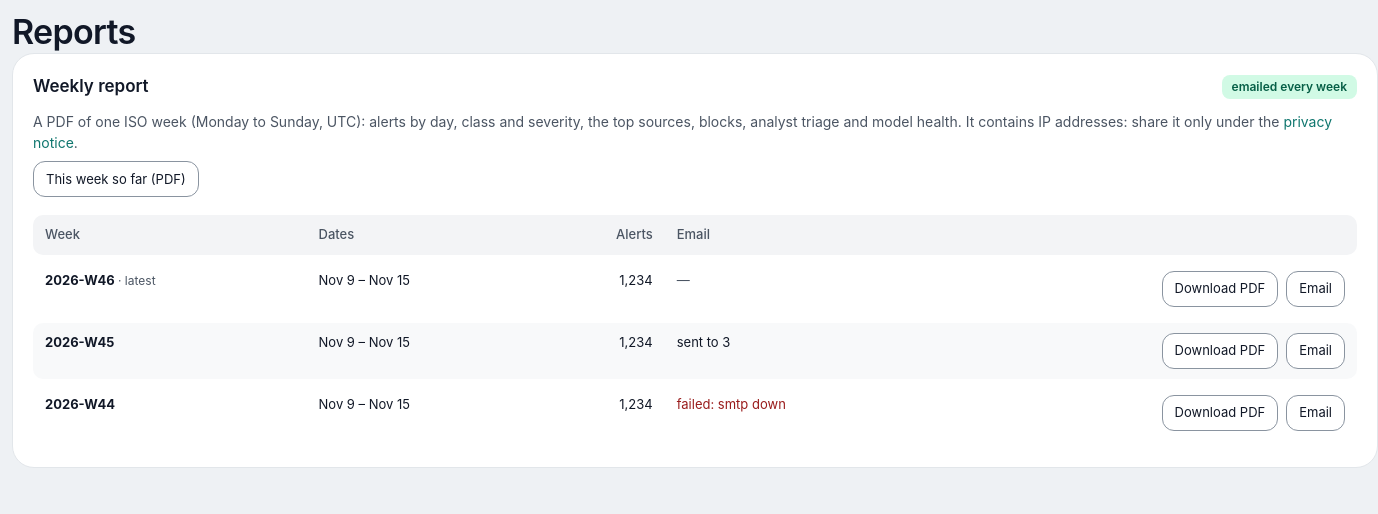
Test: Reports page › accepted confirm posts and shows the recipients notice
Expected: the text "2026-W45" is shown, x1=45 y1=334 x2=114 y2=350
Step 1. Click the button with aria-label "Email the report for 2026-W45" → (1316,351), box x1=1286 y1=333 x2=1345 y2=369
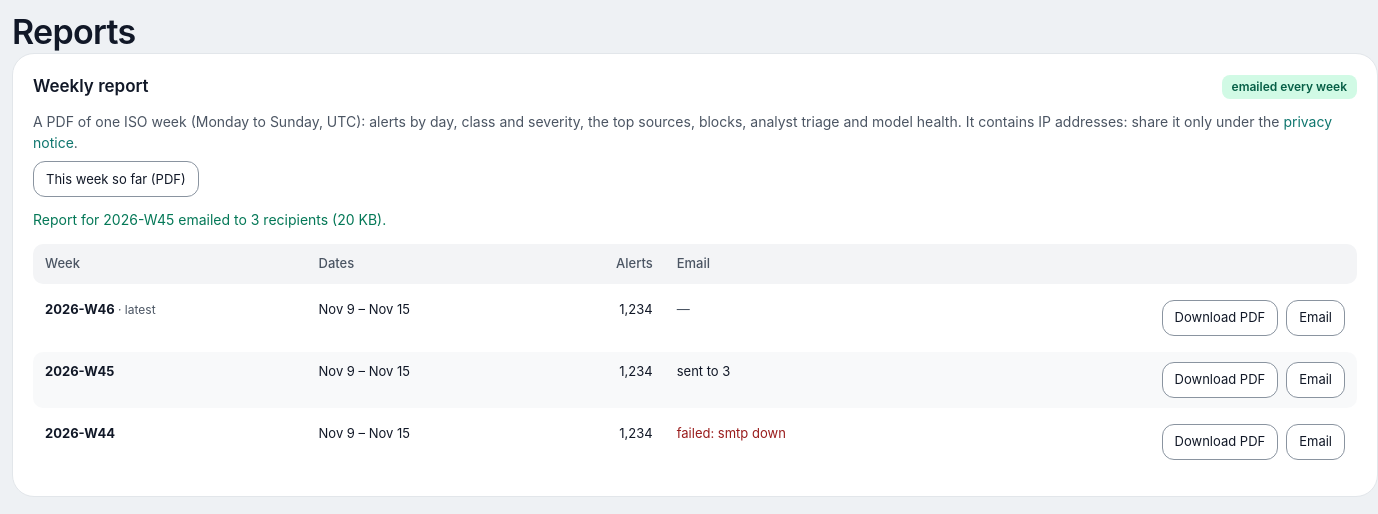
Expected: the text "Report for 2026-W45 emailed to 3 recipients (20 KB)." is shown, x1=33 y1=211 x2=386 y2=228
